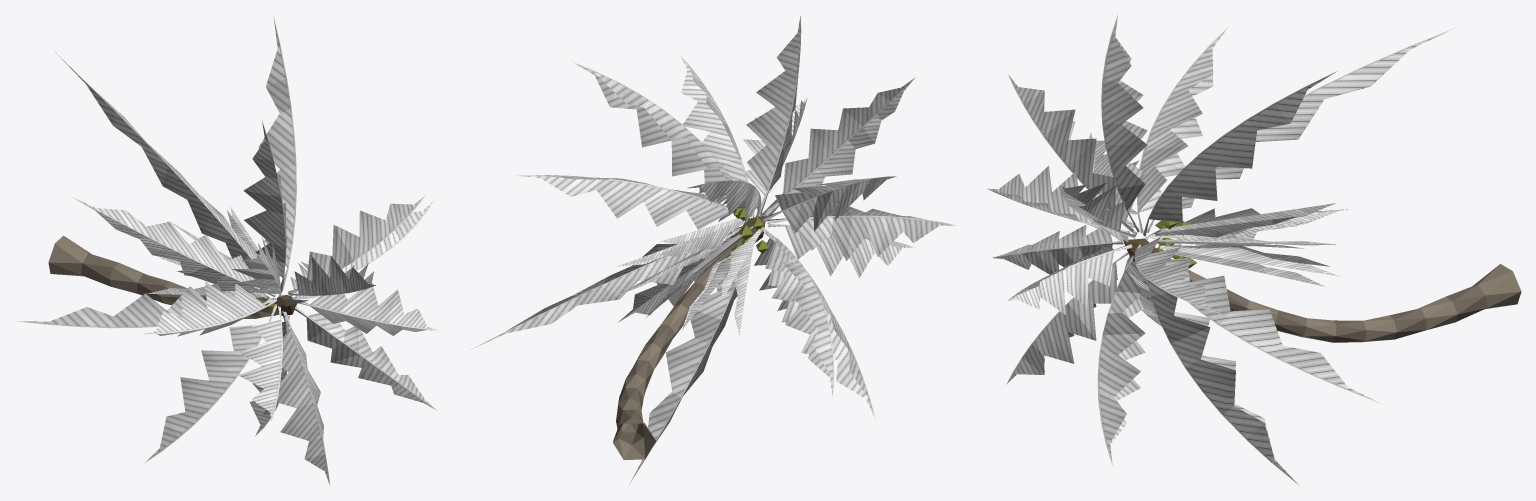
File: SM_Palm_Coco_D.obj
3 renders of one model, left to right at view 1: azimuth 30°, elevation 25°; view 2: azimuth 150°, elevation 25°; view 3: azimuth 270°, elevation 25°, orthographic. The views are drawn at different scales.
Parts seen in each view (by area): view 1: SM_Palm_Coco_D; view 2: SM_Palm_Coco_D; view 3: SM_Palm_Coco_D.
Boxes of the visible parts, box(x1,y1,x2,y2) form: SM_Palm_Coco_D: box(16, 15, 437, 485); SM_Palm_Coco_D: box(470, 15, 956, 484); SM_Palm_Coco_D: box(987, 15, 1521, 485).
Bounding box in the file's own units: 779 × 822 × 915.
Materials: 8 (4 with a texture image).
